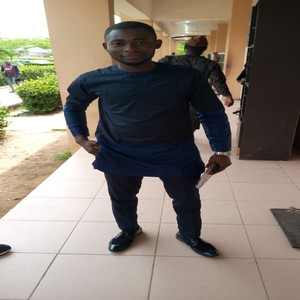Fulokoja_male_student: (82, 21, 213, 254)
